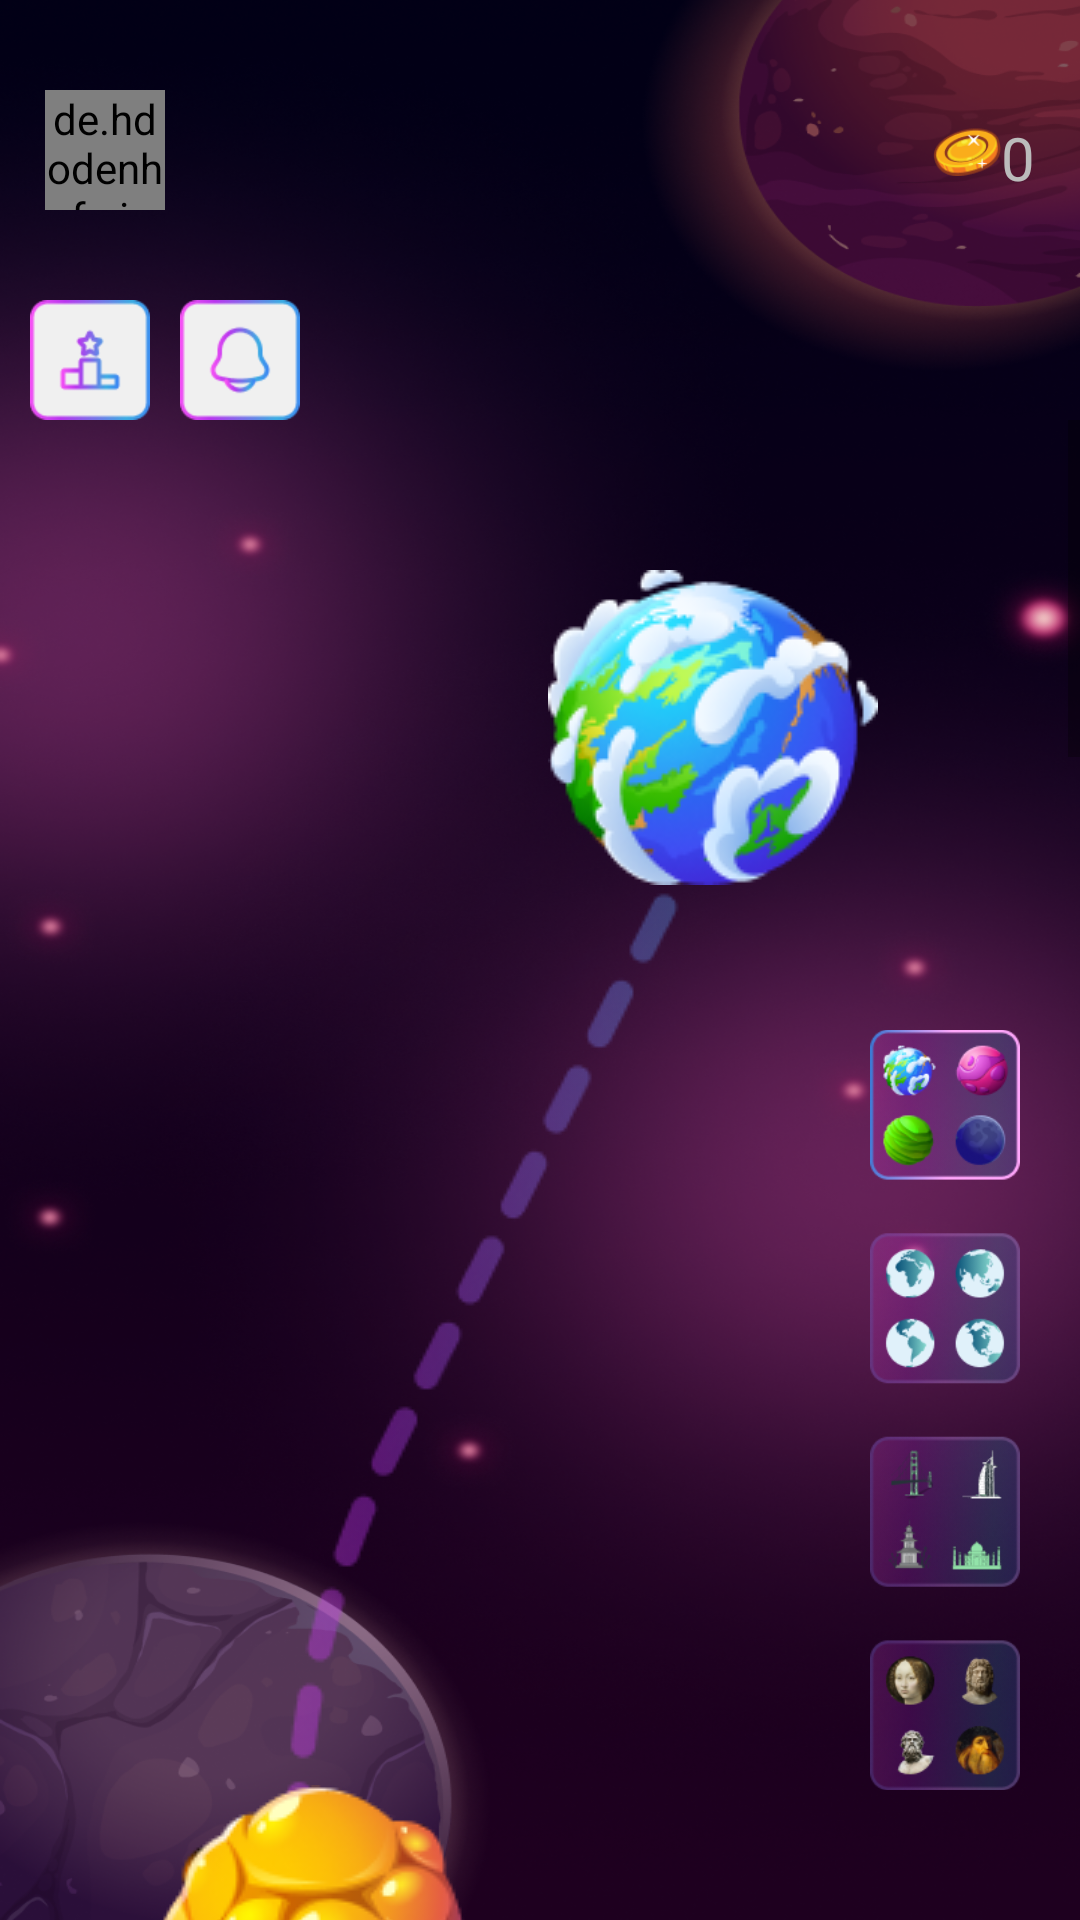

Where icons sit on this 1080*1920 app screen, as (x1, y1, x2, y2):
coin: (932, 129, 1001, 201)
leaderbord: (30, 300, 150, 420)
notification: (180, 300, 300, 420)
planet earth: (548, 570, 878, 885)
